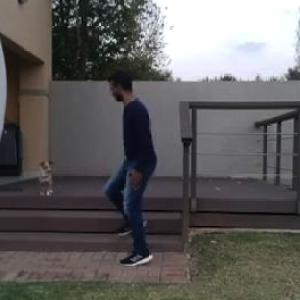follow: (107, 72, 159, 238)
